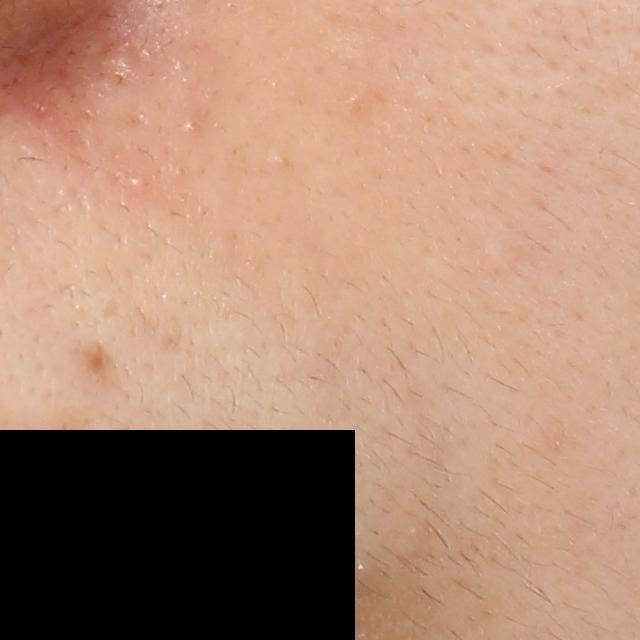comedo: (126, 168, 155, 196), (175, 114, 202, 143)
nevus: (69, 337, 124, 383)
